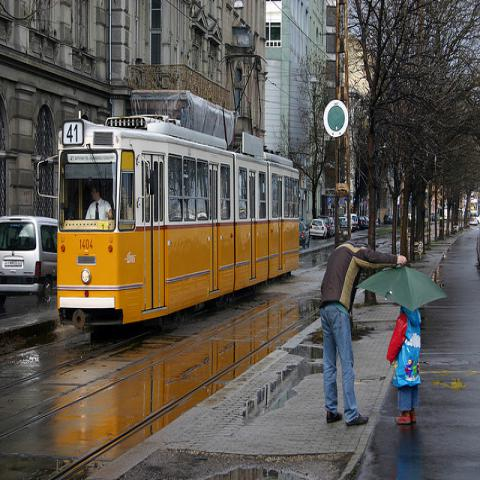car: (0, 216, 58, 308), (342, 212, 363, 230), (310, 219, 328, 239), (317, 216, 333, 238), (300, 220, 310, 250), (338, 216, 354, 232), (384, 214, 393, 225), (330, 216, 335, 234), (363, 216, 369, 227), (375, 216, 379, 225)
